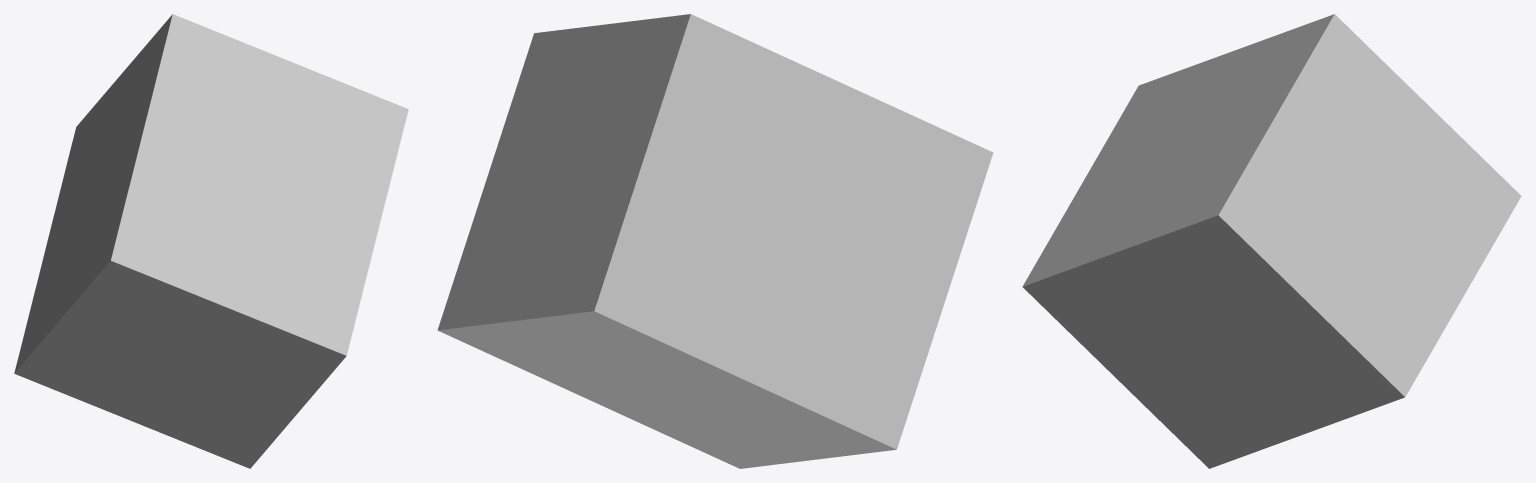
File: Empty Block.glb
3 renders of one model, left to right at view 1: azimuth 30°, elevation 25°; view 2: azimuth 150°, elevation 25°; view 3: azimuth 270°, elevation 25°, orthographic. The views are drawn at different scales.
Parts seen in each view (by area): view 1: mesh_id27; view 2: mesh_id27; view 3: mesh_id27.
Boxes of the visible parts, x1,y1,x2,y2 form: mesh_id27: (14, 14, 408, 468); mesh_id27: (437, 14, 993, 468); mesh_id27: (1022, 14, 1521, 468).
Size of the model in its own units: 0.3492 by 0.4037 by 0.4104.
Materials: 1 (1 with a texture image).
